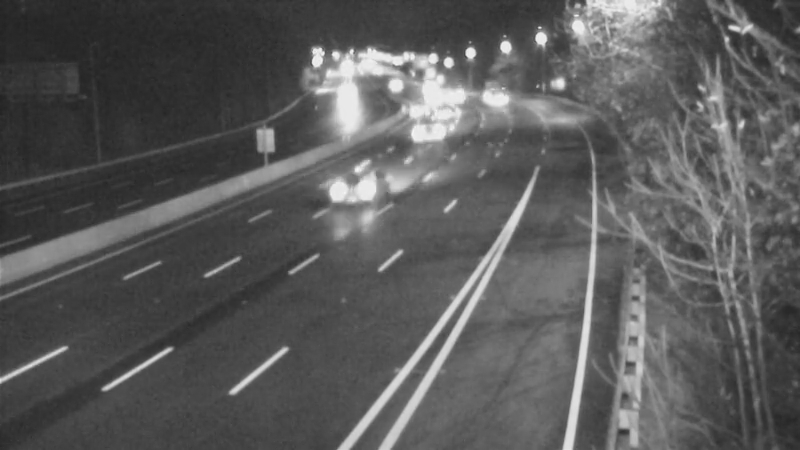vehicle: (330, 145, 410, 225), (369, 59, 419, 109), (408, 73, 458, 123), (424, 71, 474, 121), (455, 67, 505, 117), (420, 86, 470, 136), (387, 79, 437, 129), (408, 103, 458, 153), (315, 70, 365, 120)
